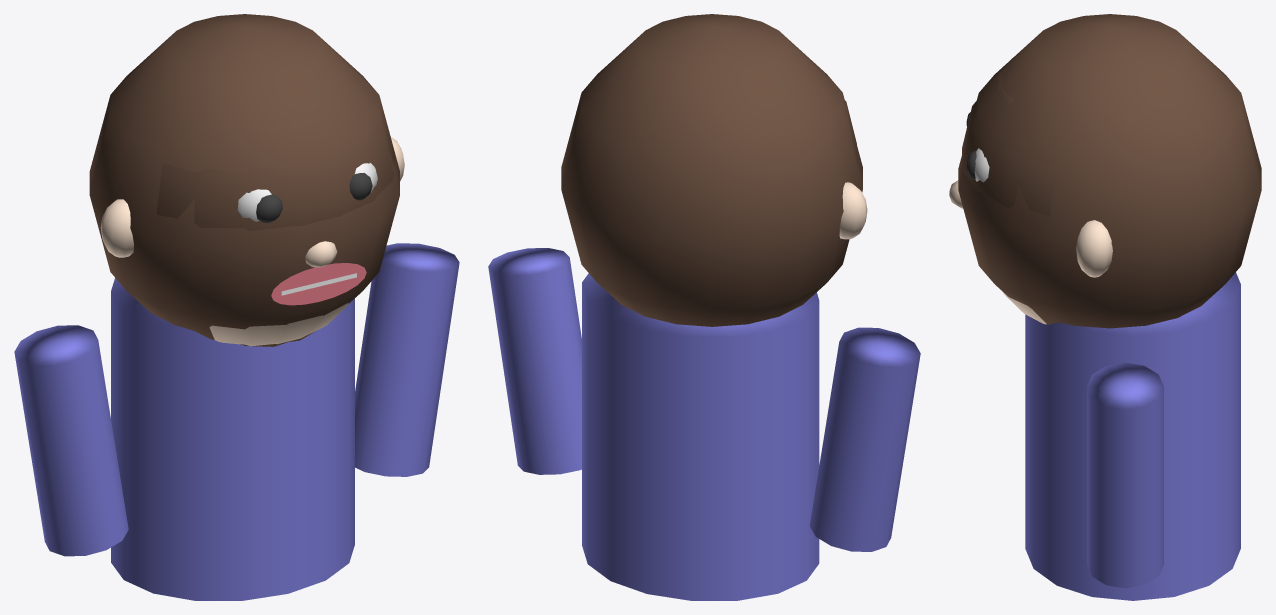
File: AURA_avatar.glb
3 renders of one model, left to right at view 1: azimuth 30°, elevation 25°; view 2: azimuth 150°, elevation 25°; view 3: azimuth 270°, elevation 25°, orthographic. The views are drawn at different scales.
Parts seen in each view (by area): view 1: Body, HairSide, ArmL, ArmR, Hair, Mouth_Mesh, Head, EarL, Nose, EyeWhiteL, PupilL; view 2: HairSide, Body, ArmL, ArmR, EarL; view 3: HairSide, Body, ArmR, Hair, EarR.
Boxes of the visible parts, x1,y1,x2,y2 form: Body: [111, 278, 354, 600]; HairSide: [89, 14, 399, 346]; ArmL: [14, 325, 128, 556]; ArmR: [355, 243, 459, 476]; Hair: [156, 105, 394, 231]; Mouth_Mesh: [271, 263, 366, 305]; Head: [209, 303, 348, 346]; EarL: [100, 199, 133, 257]; Nose: [305, 241, 337, 267]; EyeWhiteL: [237, 189, 271, 221]; PupilL: [256, 194, 282, 222]; HairSide: [561, 14, 862, 326]; Body: [582, 273, 819, 600]; ArmL: [809, 327, 920, 551]; ArmR: [488, 248, 581, 474]; EarL: [839, 182, 867, 239]; HairSide: [958, 14, 1261, 328]; Body: [1025, 272, 1240, 600]; ArmR: [1087, 362, 1163, 588]; Hair: [962, 57, 1055, 215]; EarR: [1076, 220, 1112, 277].
Size of the model in its own units: 0.6379 by 0.75 by 0.4057.
